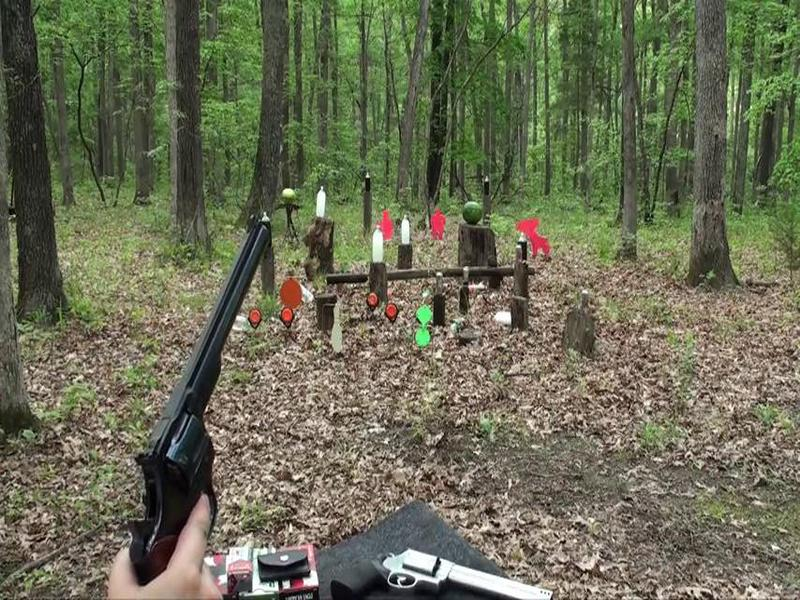Revolver: (116, 218, 278, 593)
